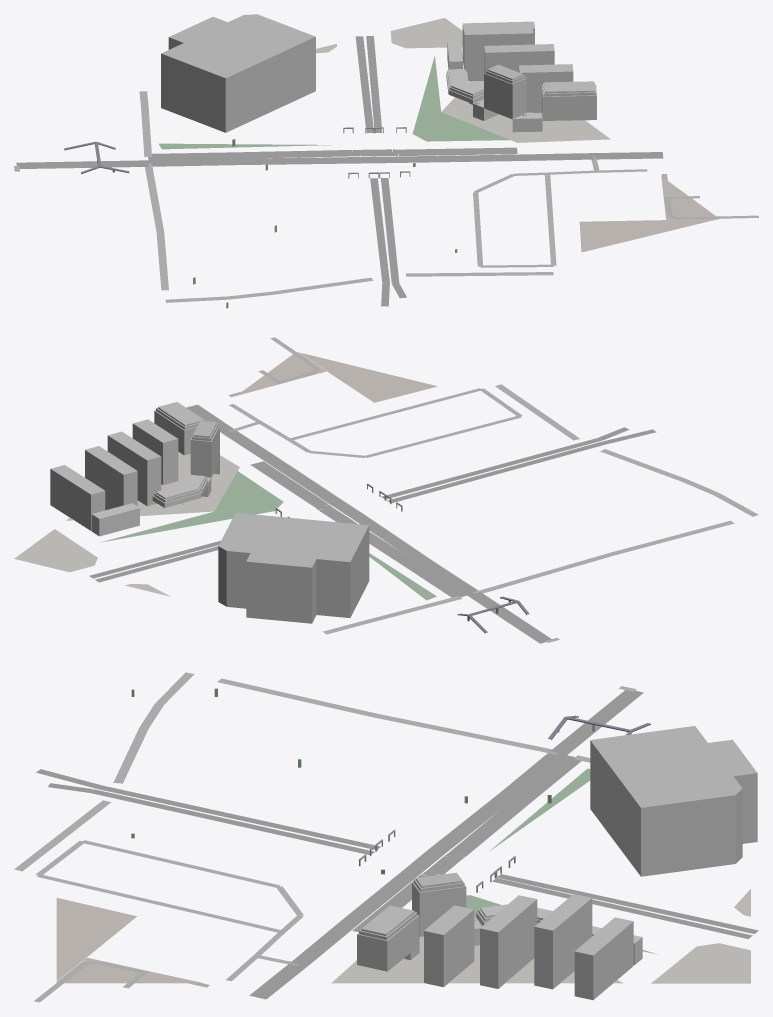
3 views of the same model, one above another, from view 1: azimuth 30°, elevation 25°; view 2: azimuth 150°, elevation 25°; view 3: azimuth 270°, elevation 25° (orthographic). The views are drawn at different scales.
Size of the model in its own units: 561 by 55.28 by 536.
